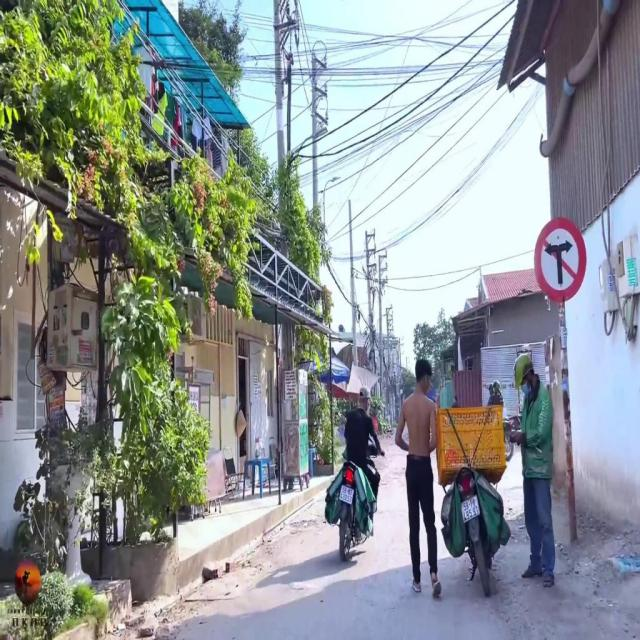cam_re_trai_va_phai: (534, 216, 588, 302)
